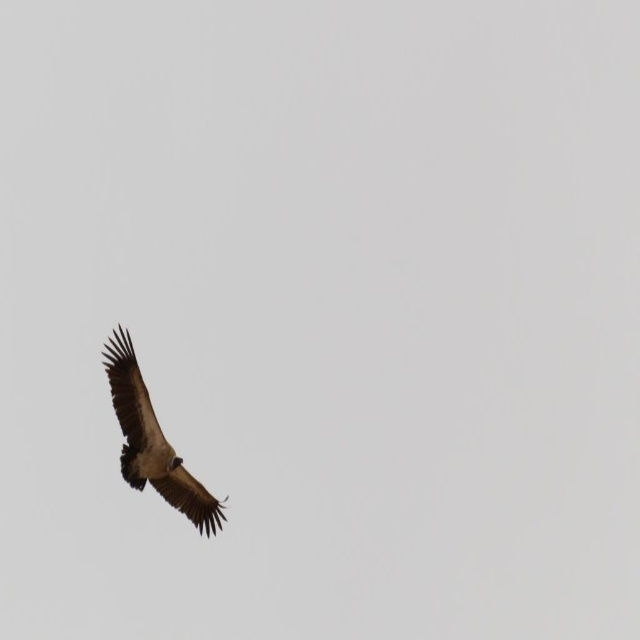Eagle: (95, 315, 227, 541)
